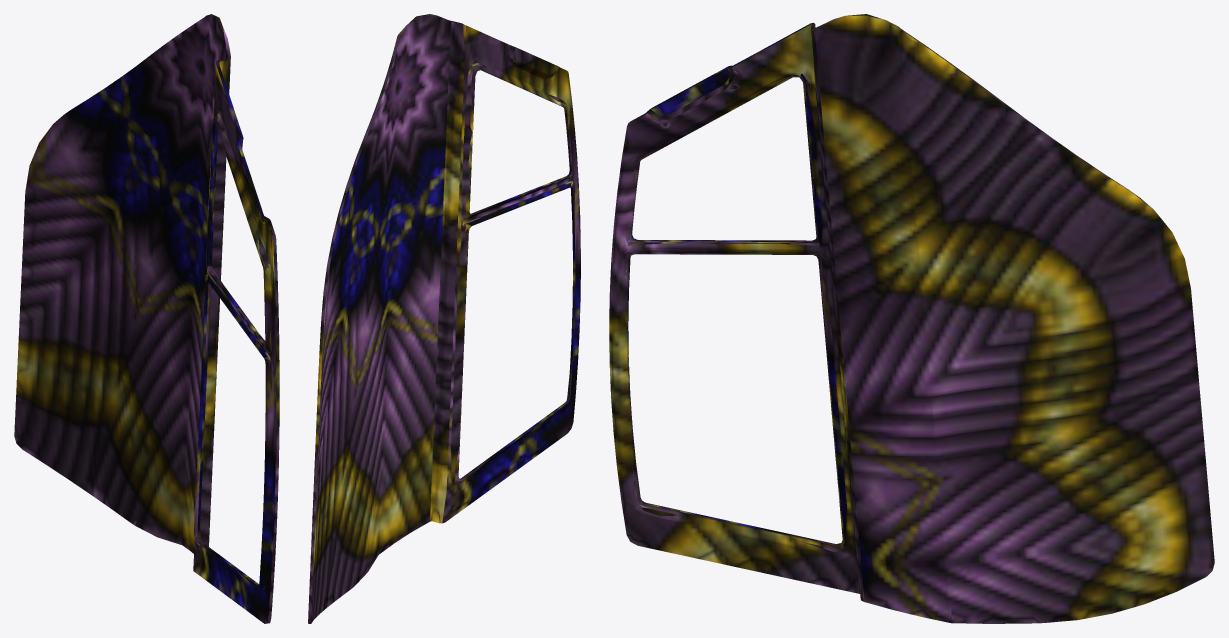
File: door_test.obj
3 views of the same model, side by side, from view 1: azimuth 30°, elevation 25°; view 2: azimuth 150°, elevation 25°; view 3: azimuth 270°, elevation 25° (orthographic). The views are drawn at different scales.
Parts seen in each view (by area): view 1: carDoor_uniformMesh; view 2: carDoor_uniformMesh; view 3: carDoor_uniformMesh.
Boxes of the visible parts, left/top/right/bottom form: carDoor_uniformMesh: left=14, top=14, right=279, bottom=623; carDoor_uniformMesh: left=308, top=14, right=580, bottom=623; carDoor_uniformMesh: left=609, top=14, right=1214, bottom=623.
Bounding box in the file's own units: 0.1278 × 1 × 0.8983.
